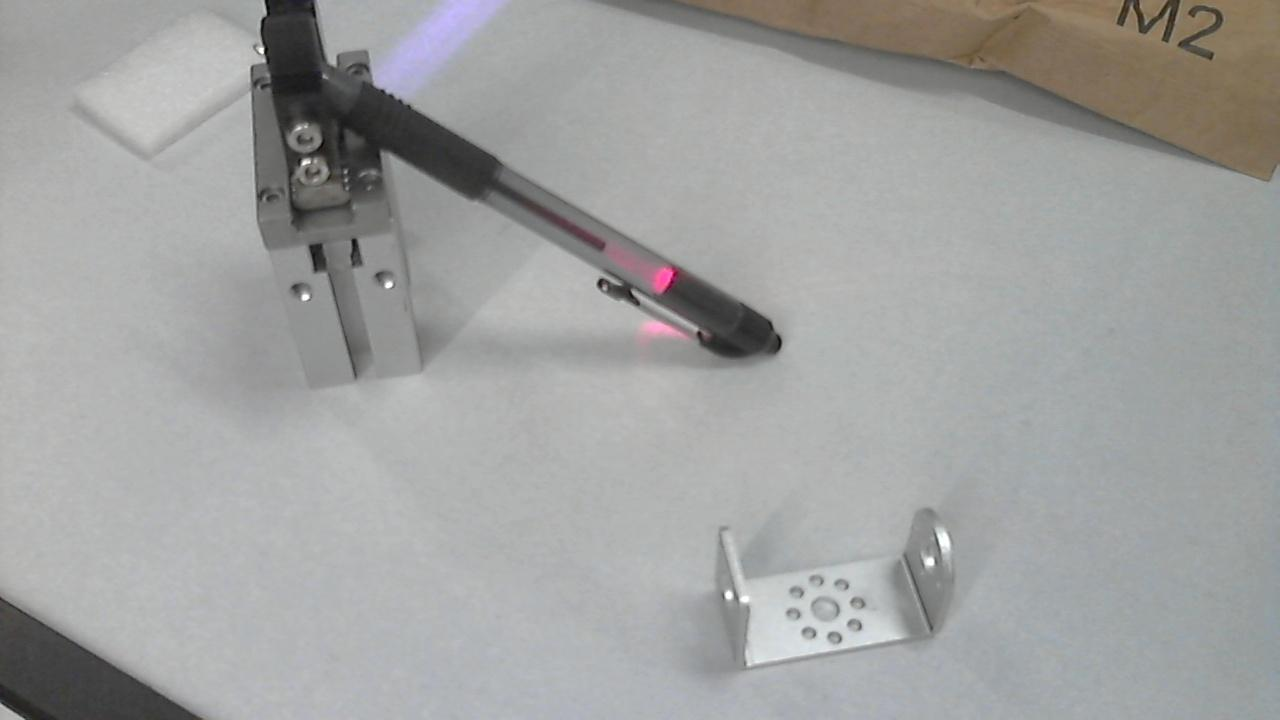Object retractable gel pen - Material plastic- Pdfname asdasdaswe: (610, 248, 703, 309)
